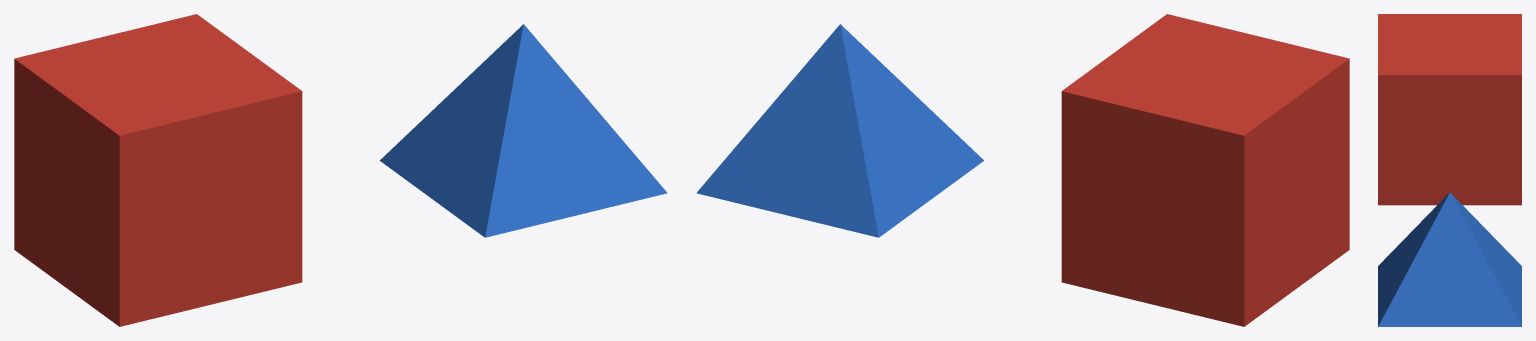
The model's file is solides-test.fbx.
3 renders of one model, left to right at view 1: azimuth 30°, elevation 25°; view 2: azimuth 150°, elevation 25°; view 3: azimuth 270°, elevation 25°, orthographic. The views are drawn at different scales.
Visible parts, largest first — view 1: Cube FBX, Pyramide FBX; view 2: Cube FBX, Pyramide FBX; view 3: Cube FBX, Pyramide FBX.
Part boxes in pixels (box(x1,y1,x2,y2)): Cube FBX: box(14, 14, 302, 326); Pyramide FBX: box(380, 24, 667, 237); Cube FBX: box(1061, 14, 1349, 326); Pyramide FBX: box(696, 24, 983, 237); Cube FBX: box(1378, 14, 1521, 205); Pyramide FBX: box(1378, 192, 1521, 326).
Bounding box in the file's own units: 6 × 2 × 2.
